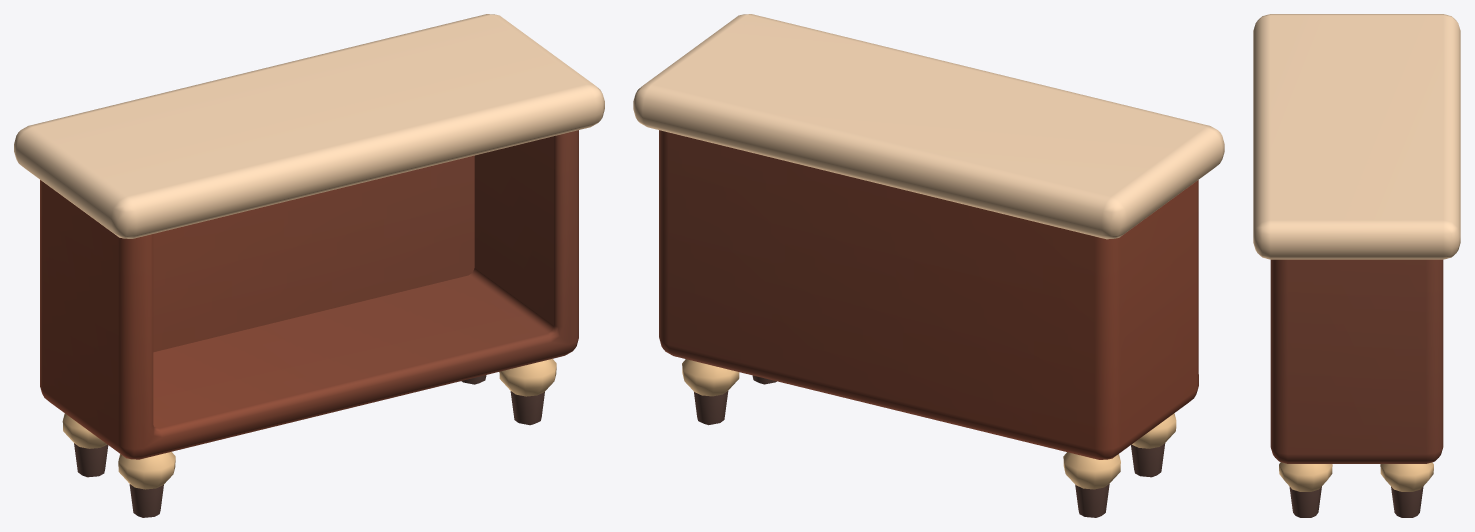
Rendered from Cabinet_001.fbx.
The picture shows the model from 3 angles, left to right: view 1: azimuth 30°, elevation 25°; view 2: azimuth 150°, elevation 25°; view 3: azimuth 270°, elevation 25°; orthographic projection. The views are drawn at different scales.
Visible parts, largest first — view 1: Cabinet_001; view 2: Cabinet_001; view 3: Cabinet_001.
Boxes of the visible parts, x1,y1,x2,y2 form: Cabinet_001: (14, 14, 604, 517); Cabinet_001: (633, 14, 1224, 517); Cabinet_001: (1253, 14, 1460, 517).
Size of the model in its own units: 120 by 48 by 79.66.
